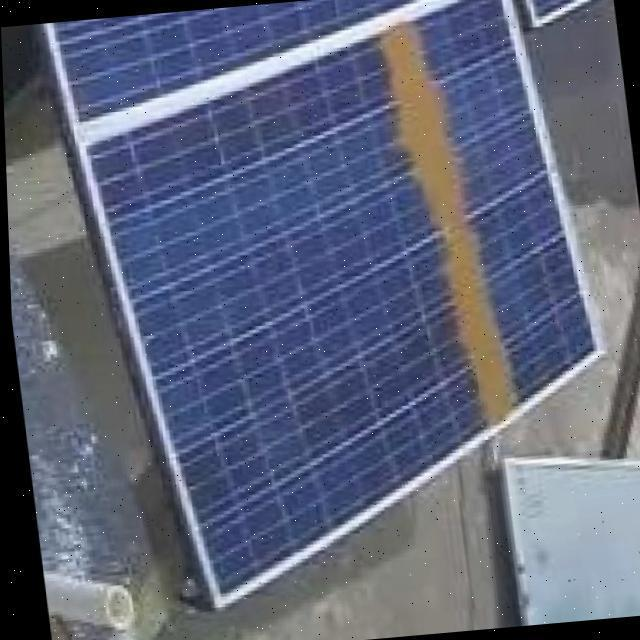Anomaly Solar Panel: (31, 0, 640, 601)
Surface Contaminant: (376, 20, 523, 428)
